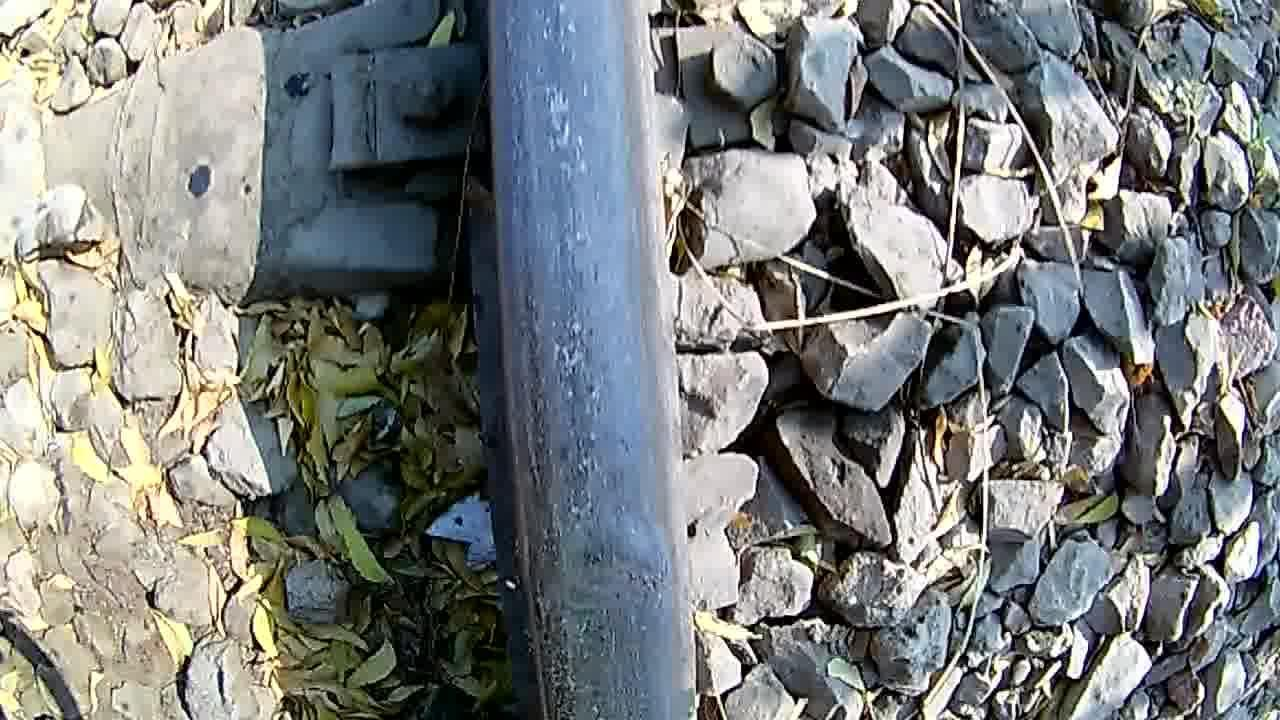crack: (543, 438, 686, 718)
